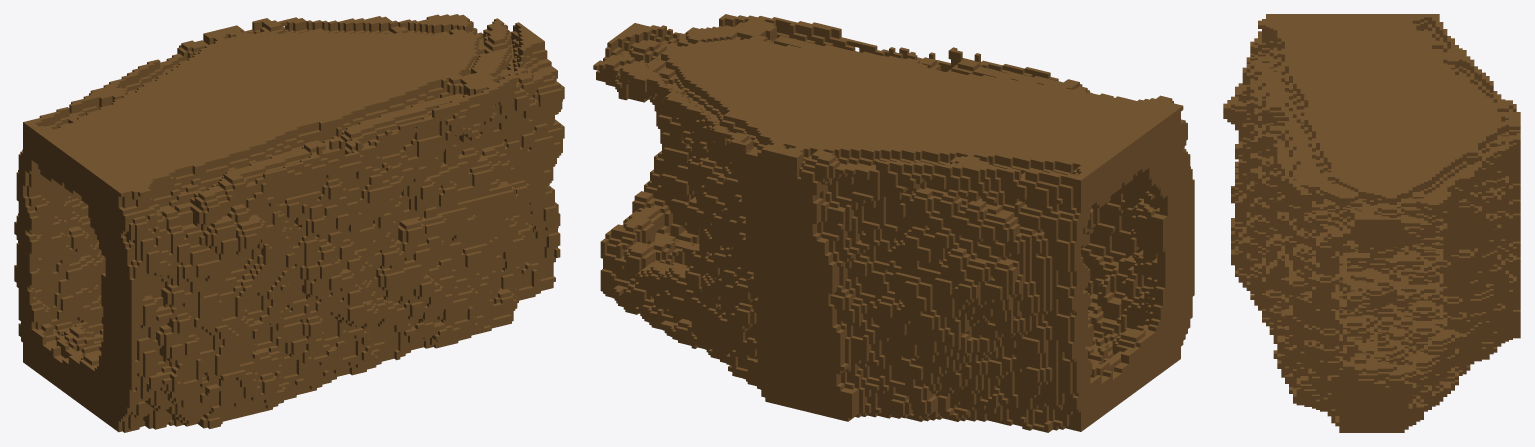
The model's file is Level 1 curve pathway_sharp corner template.obj.
3 renders of one model, left to right at view 1: azimuth 30°, elevation 25°; view 2: azimuth 150°, elevation 25°; view 3: azimuth 270°, elevation 25°, orthographic. The views are drawn at different scales.
Size of the model in its own units: 126 by 61 by 77.
1 material, 1 textured.
